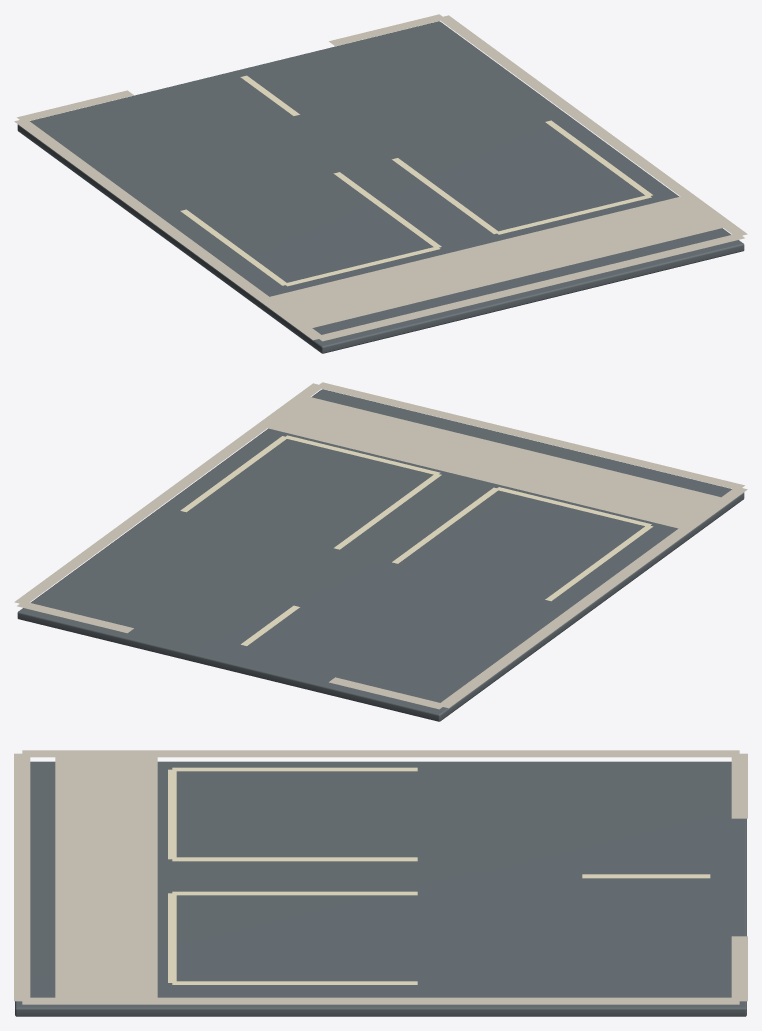
Rendered from parking-small.glb.
3 views of the same model, one above another, from view 1: azimuth 30°, elevation 25°; view 2: azimuth 150°, elevation 25°; view 3: azimuth 270°, elevation 25° (orthographic). The views are drawn at different scales.
Visible parts, largest first — view 1: Lot surface, Batch_Sidewalk stone_, Batch_Road paint_; view 2: Lot surface, Batch_Sidewalk stone_, Batch_Road paint_; view 3: Lot surface, Batch_Sidewalk stone_, Batch_Road paint_.
Part boxes in pixels (x1,y1,x2,y2): Lot surface: (17, 21, 744, 353); Batch_Sidewalk stone_: (14, 14, 747, 341); Batch_Road paint_: (180, 75, 652, 286); Lot surface: (17, 389, 744, 721); Batch_Sidewalk stone_: (14, 382, 747, 709); Batch_Road paint_: (180, 435, 653, 645); Lot surface: (15, 761, 746, 1016); Batch_Sidewalk stone_: (14, 750, 747, 1004); Batch_Road paint_: (168, 767, 710, 984).
Bounding box in the file's own units: 2.35 × 0.075 × 2.86.
